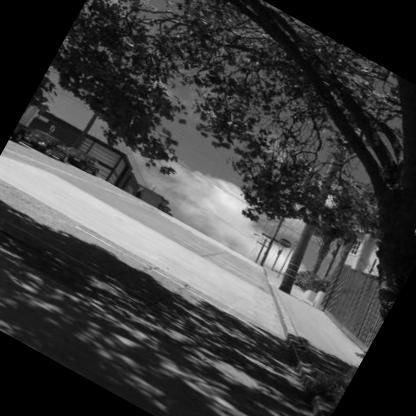car: (23, 121, 80, 172), (67, 142, 110, 184)
